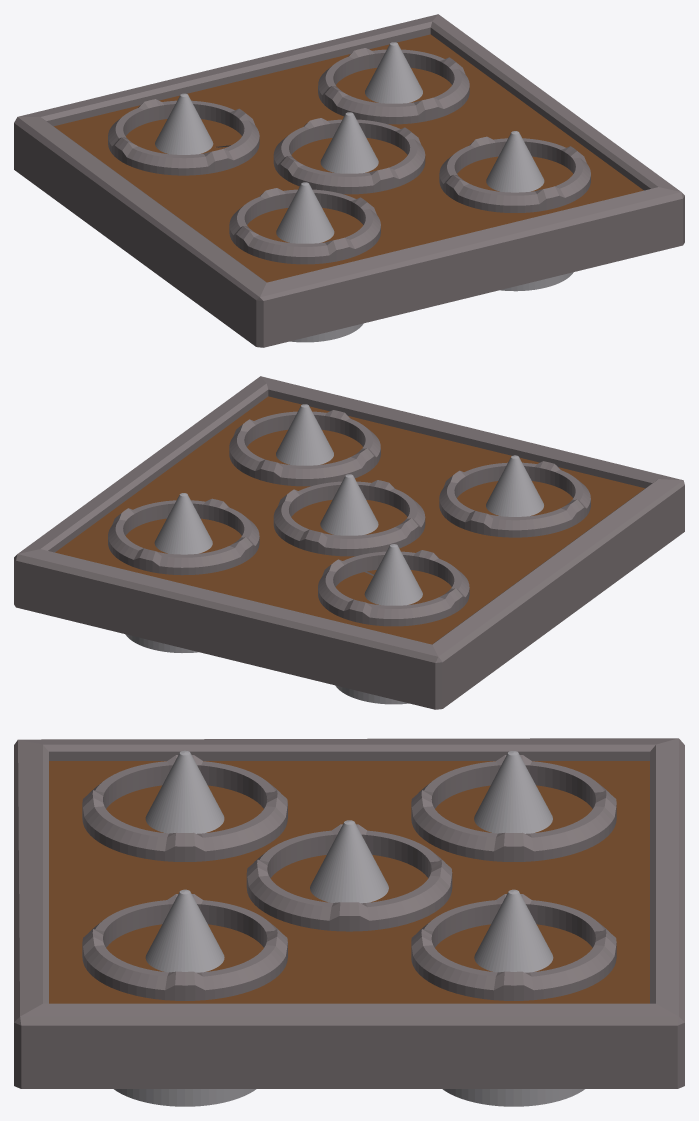
Rendered from SpikesDown.fbx.
3 views of the same model, one above another, from view 1: azimuth 30°, elevation 25°; view 2: azimuth 150°, elevation 25°; view 3: azimuth 270°, elevation 25° (orthographic). The views are drawn at different scales.
Parts seen in each view (by area): view 1: Cube.002; view 2: Cube.002; view 3: Cube.002.
Part boxes in pixels (x1,y1,x2,y2): Cube.002: (14, 14, 684, 347); Cube.002: (14, 376, 684, 709); Cube.002: (14, 738, 684, 1106).
Bounding box in the file's own units: 8.17 × 2.43 × 8.17.
